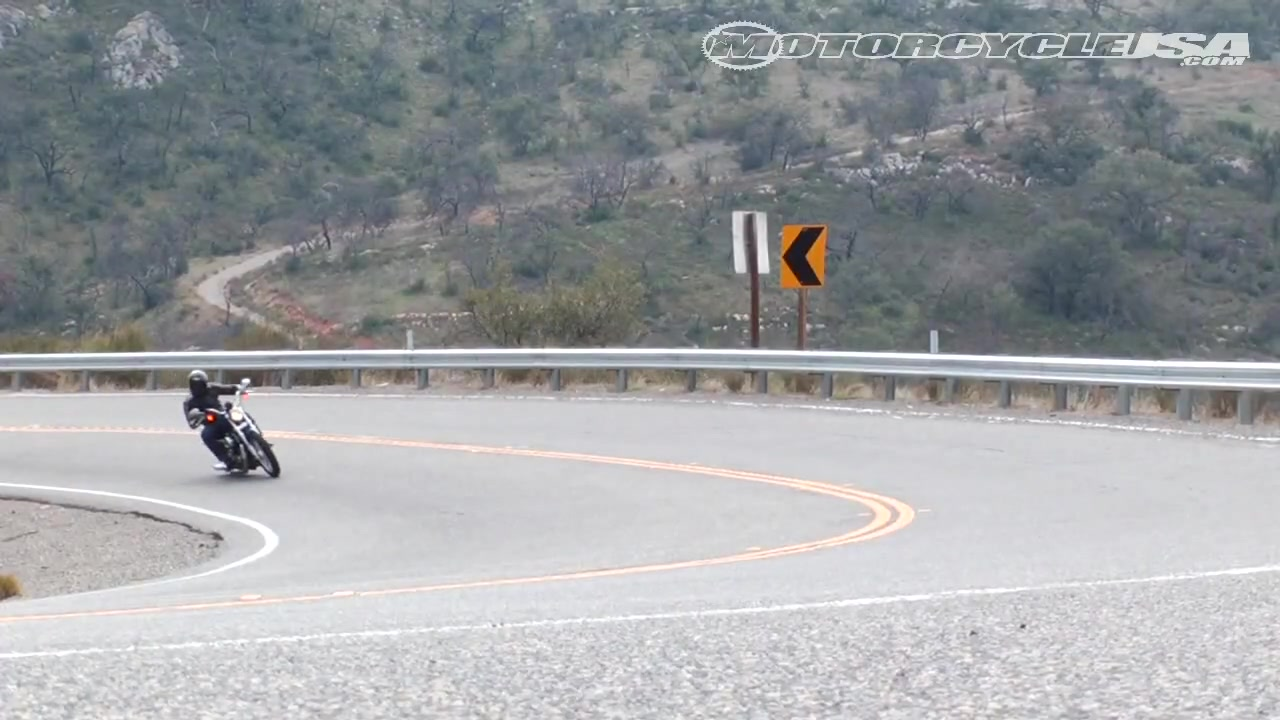motorbike: (186, 377, 283, 484)
